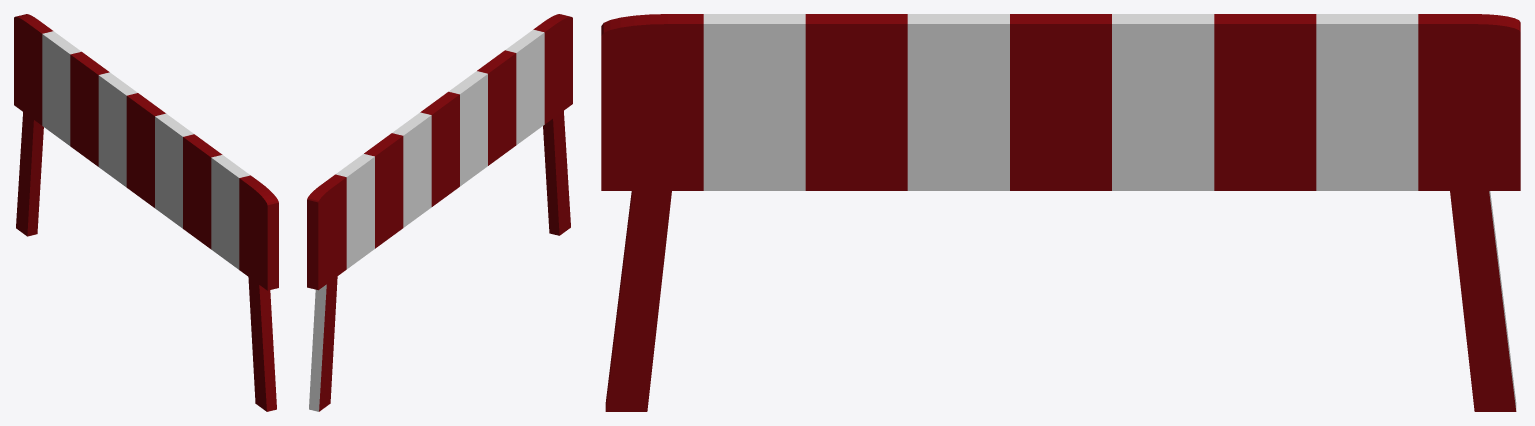
File: berigat 3.fbx
The picture shows the model from 3 angles, left to right: view 1: azimuth 30°, elevation 25°; view 2: azimuth 150°, elevation 25°; view 3: azimuth 270°, elevation 25°; orthographic projection. The views are drawn at different scales.
Parts seen in each view (by area): view 1: UCX_Object; view 2: UCX_Object; view 3: UCX_Object.
Boxes of the visible parts, box(x1,y1,x2,y2) form: UCX_Object: box(14, 14, 278, 411); UCX_Object: box(307, 14, 572, 411); UCX_Object: box(601, 14, 1520, 411).
Size of the model in its own units: 25.93 by 466 by 999.
